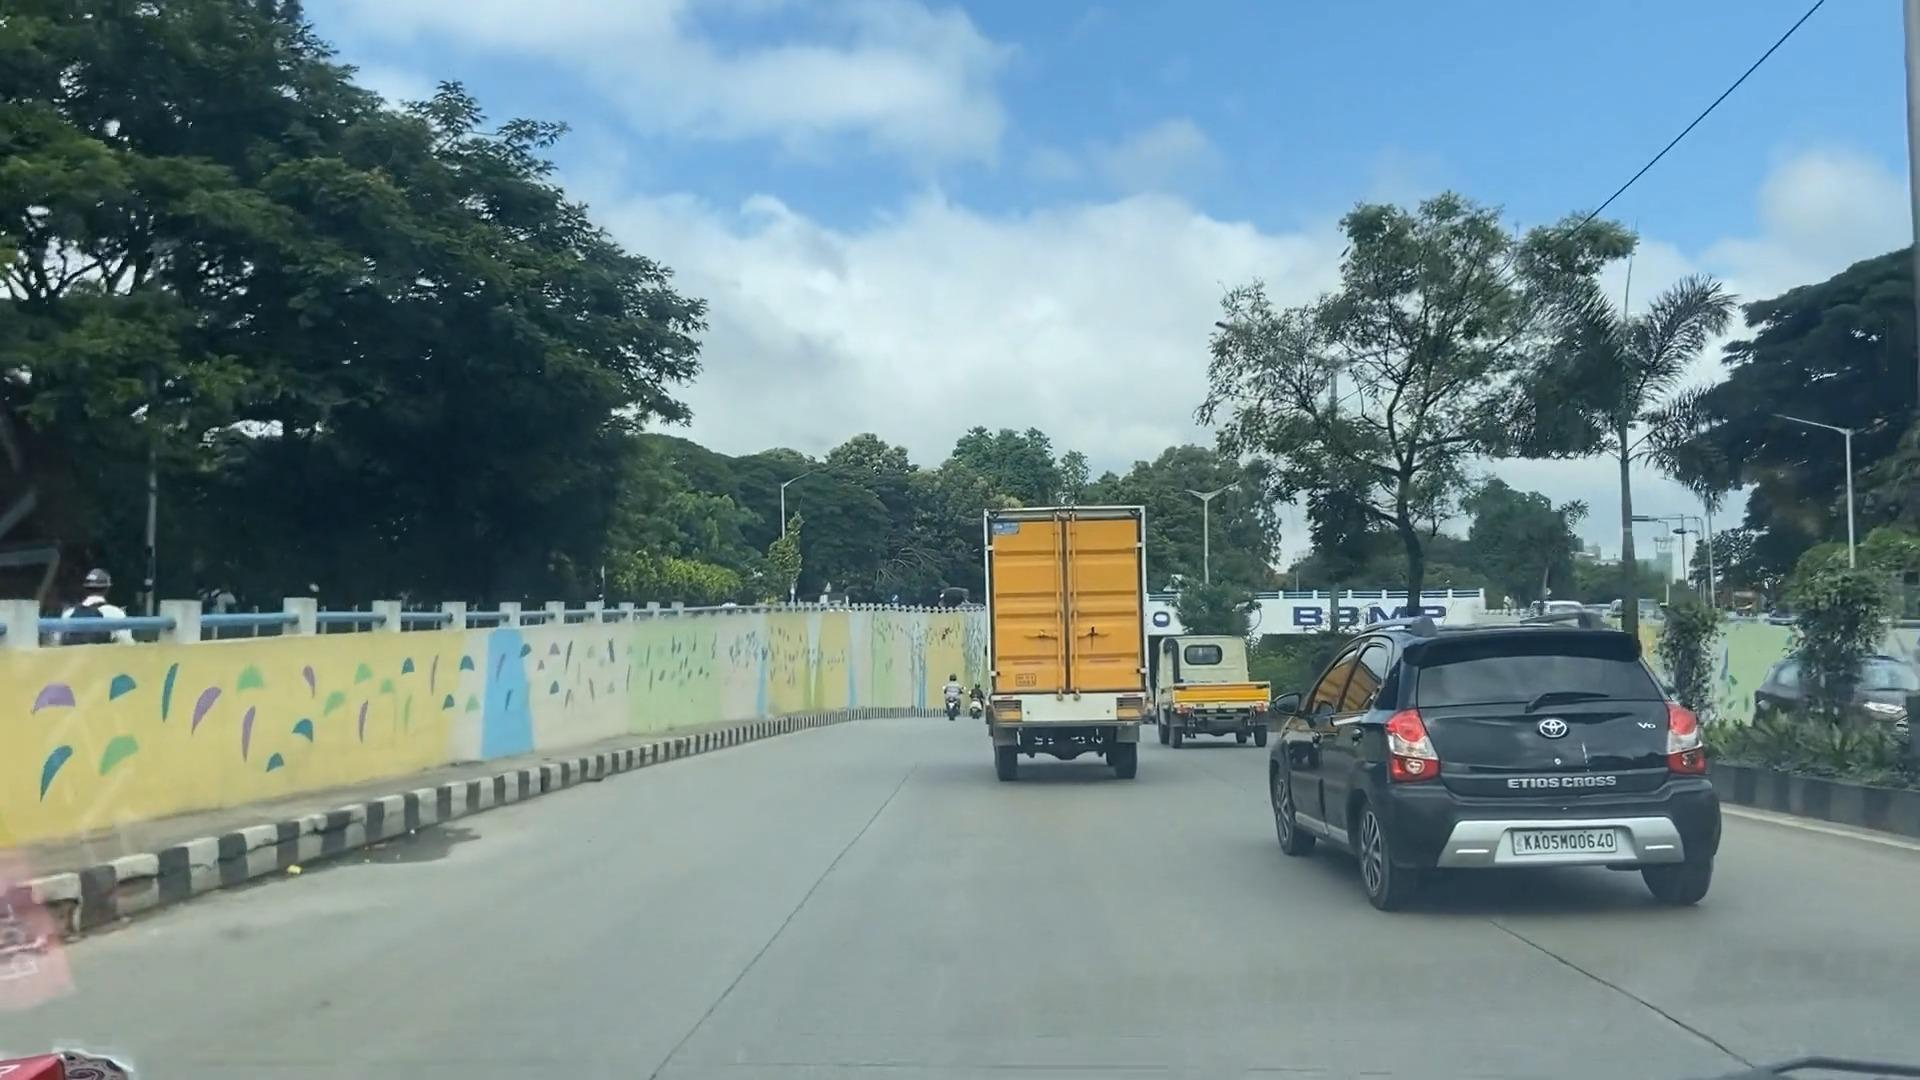HMV: (972, 501, 1160, 760)
LMV: (1290, 640, 1718, 919)
